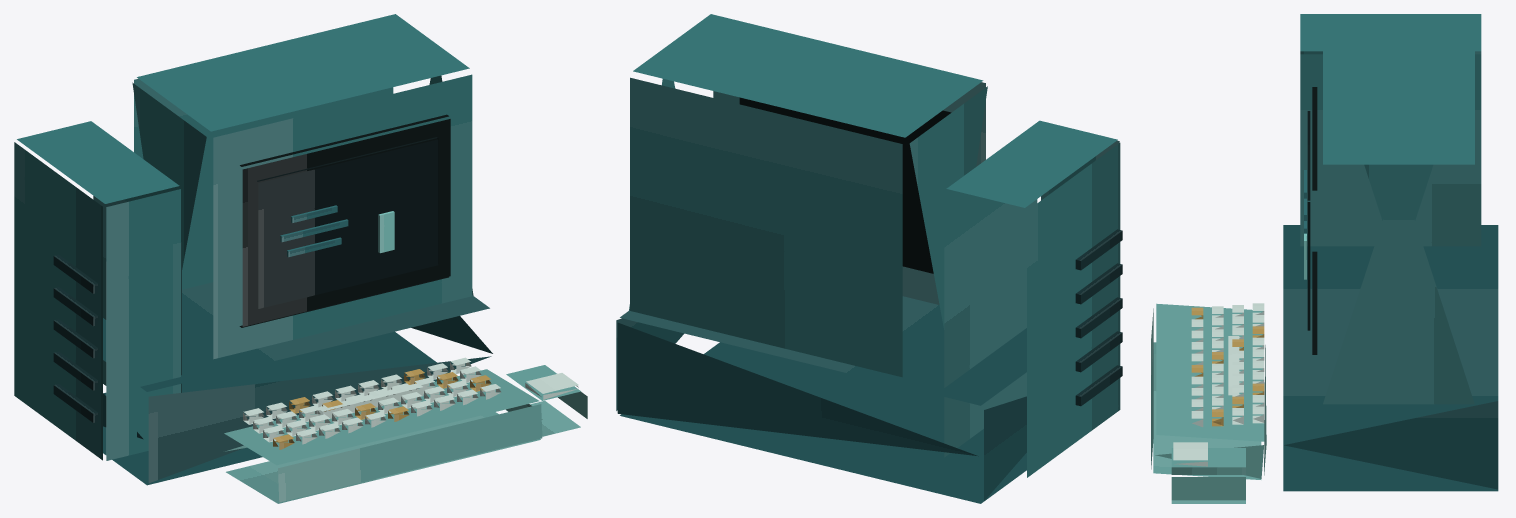
Rendered from retro_computer_compact_teal.glb.
The picture shows the model from 3 angles, left to right: view 1: azimuth 30°, elevation 25°; view 2: azimuth 150°, elevation 25°; view 3: azimuth 270°, elevation 25°; orthographic projection. The views are drawn at different scales.
Parts seen in each view (by area): view 1: MonitorShell, SideExpansion, CompactBase, MonitorGlow, KeyboardBody, MonitorFace, Mouse, SpaceBar, MouseButton, ScreenGlyph_4, SideVent_1, SideVent_0 (+3 smaller); view 2: MonitorShell, CompactBase, SideExpansion, MonitorFace, SideVent_3, SideVent_4, SideVent_0, SideVent_2, SideVent_1; view 3: MonitorShell, CompactBase, SideExpansion, KeyboardBody, Mouse, MonitorFace, MonitorGlow, MouseButton, SpaceBar.
Part boxes in pixels (x1,y1,x2,y2): MonitorShell: [132, 14, 473, 359]; SideExpansion: [14, 121, 181, 460]; CompactBase: [103, 282, 492, 485]; MonitorGlow: [257, 137, 438, 308]; KeyboardBody: [224, 369, 542, 503]; MonitorFace: [239, 114, 450, 327]; Mouse: [506, 365, 587, 436]; SpaceBar: [317, 383, 423, 419]; MouseButton: [525, 373, 578, 399]; ScreenGlyph_4: [378, 211, 394, 253]; SideVent_1: [53, 351, 98, 390]; SideVent_0: [53, 384, 98, 422]; MonitorShell: [629, 14, 987, 377]; CompactBase: [616, 296, 1026, 503]; SideExpansion: [944, 120, 1120, 477]; MonitorFace: [739, 97, 951, 273]; SideVent_3: [1075, 263, 1122, 304]; SideVent_4: [1075, 229, 1122, 270]; SideVent_0: [1075, 365, 1122, 406]; SideVent_2: [1075, 297, 1122, 338]; SideVent_1: [1075, 331, 1122, 372]; MonitorShell: [1323, 35, 1474, 404]; CompactBase: [1283, 225, 1498, 491]; SideExpansion: [1300, 14, 1481, 246]; KeyboardBody: [1151, 303, 1266, 479]; Mouse: [1171, 448, 1245, 503]; MonitorFace: [1312, 87, 1317, 354]; MonitorGlow: [1307, 111, 1310, 330]; MouseButton: [1173, 442, 1207, 466]; SpaceBar: [1228, 336, 1239, 395].
Bounding box in the file's own units: 1.25 × 0.89 × 0.8679.
Materials: 1 (1 with a texture image).
